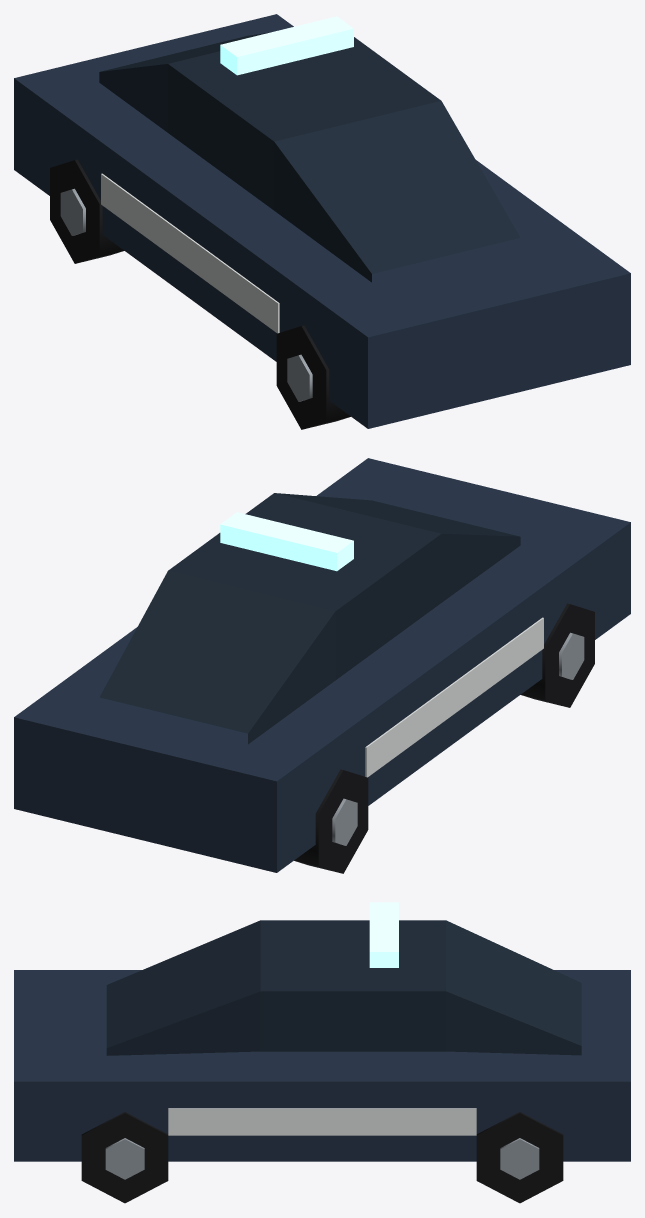
The model's file is veh_ground_police_car_a08_lod1.glb.
The picture shows the model from 3 angles, top to bottom: view 1: azimuth 30°, elevation 25°; view 2: azimuth 150°, elevation 25°; view 3: azimuth 270°, elevation 25°; orthographic projection. The views are drawn at different scales.
Visible parts, largest first — view 1: body, wheel_2, wheel_0; view 2: body, wheel_0, wheel_2; view 3: body, wheel_1, wheel_3.
Part boxes in pixels (x1,y1,x2,y2): body: [14, 14, 630, 428]; wheel_2: [276, 325, 350, 429]; wheel_0: [50, 159, 124, 263]; body: [14, 458, 630, 872]; wheel_0: [294, 769, 368, 873]; wheel_2: [520, 603, 594, 707]; body: [14, 902, 630, 1161]; wheel_1: [476, 1112, 563, 1203]; wheel_3: [81, 1112, 168, 1203].
Bounding box in the file's own units: 1.88 × 1.65 × 4.2.
